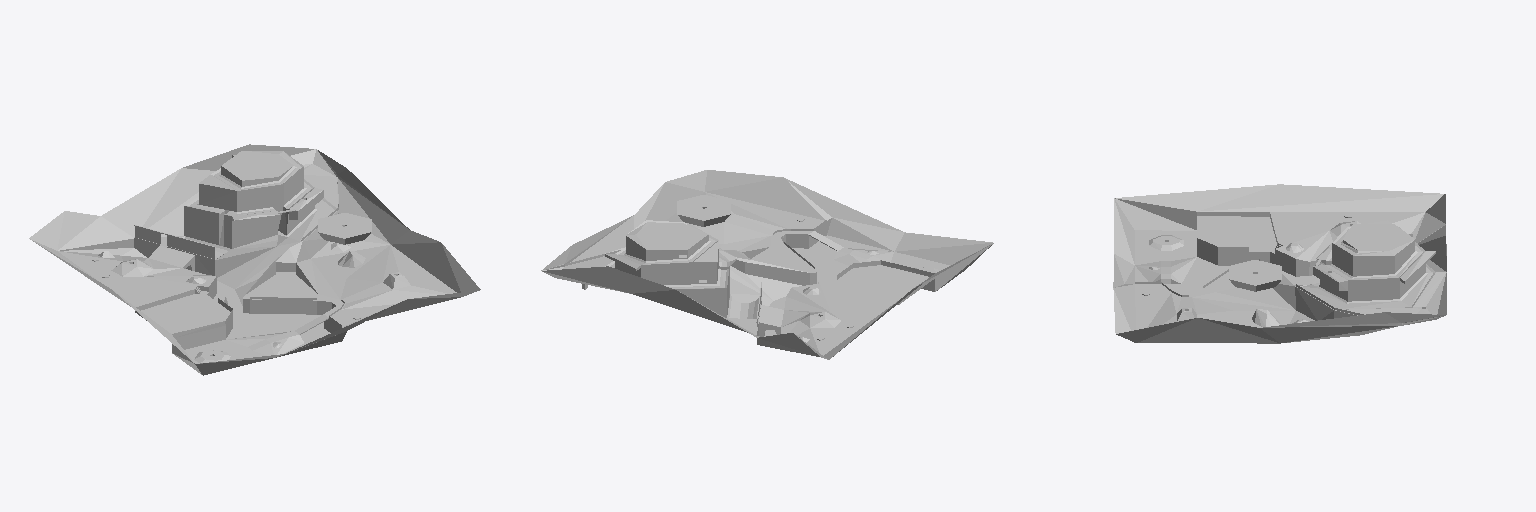
The model's file is battleSmooth.obj.
The picture shows the model from 3 angles: view 1: azimuth 30°, elevation 25°; view 2: azimuth 150°, elevation 25°; view 3: azimuth 270°, elevation 25°; orthographic projection.
Bounding box in the file's own units: 93.24 × 26.53 × 93.36.